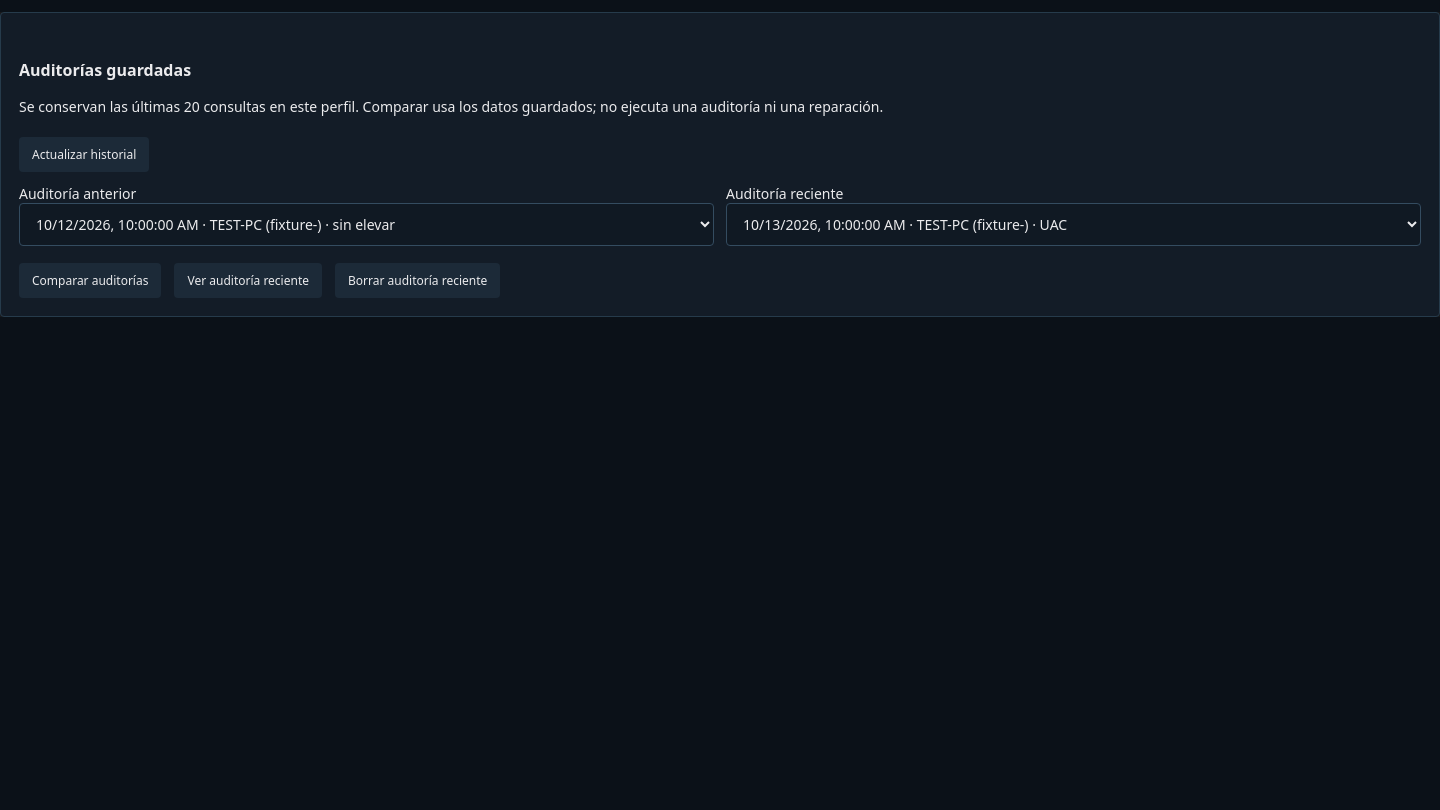
it: failed comparisons remove the previous result and expose the native rejection
Click the button "Comparar auditorías": (90, 281) [19,263,162,298]
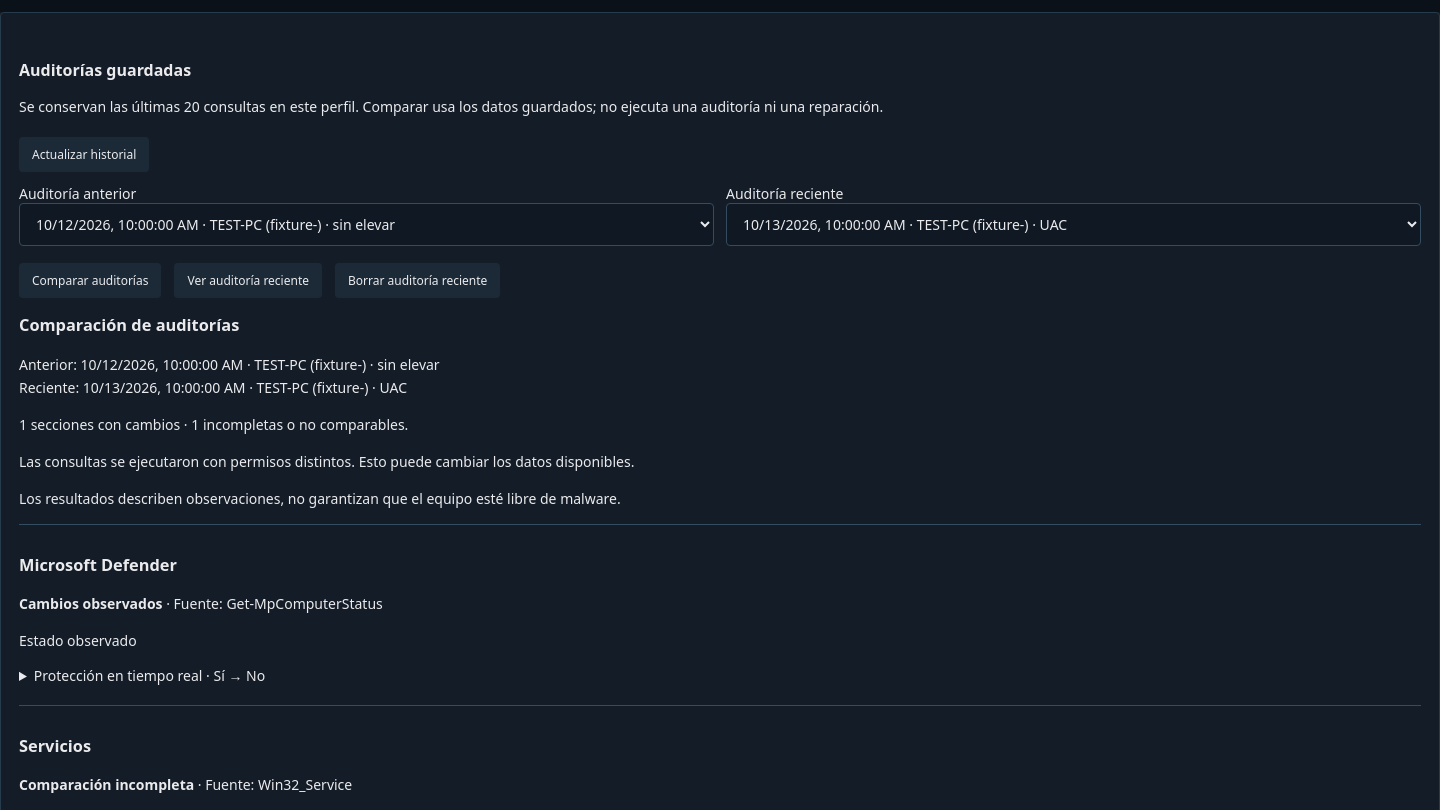
Click the button "Comparar auditorías": (90, 281) [19,263,162,298]
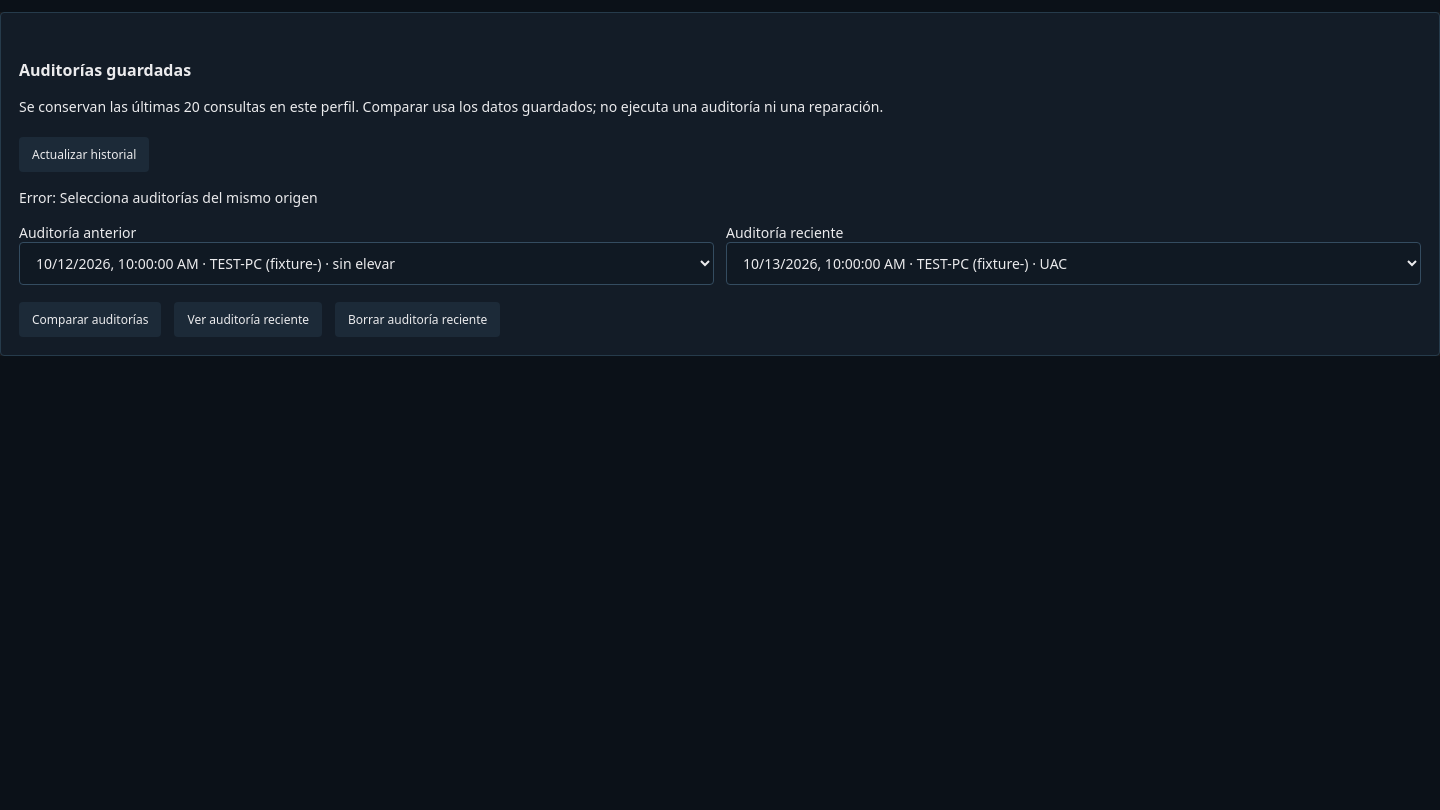
Expected: the message "Error: Selecciona auditorías del mismo origen" is shown, [19,188,318,207]
